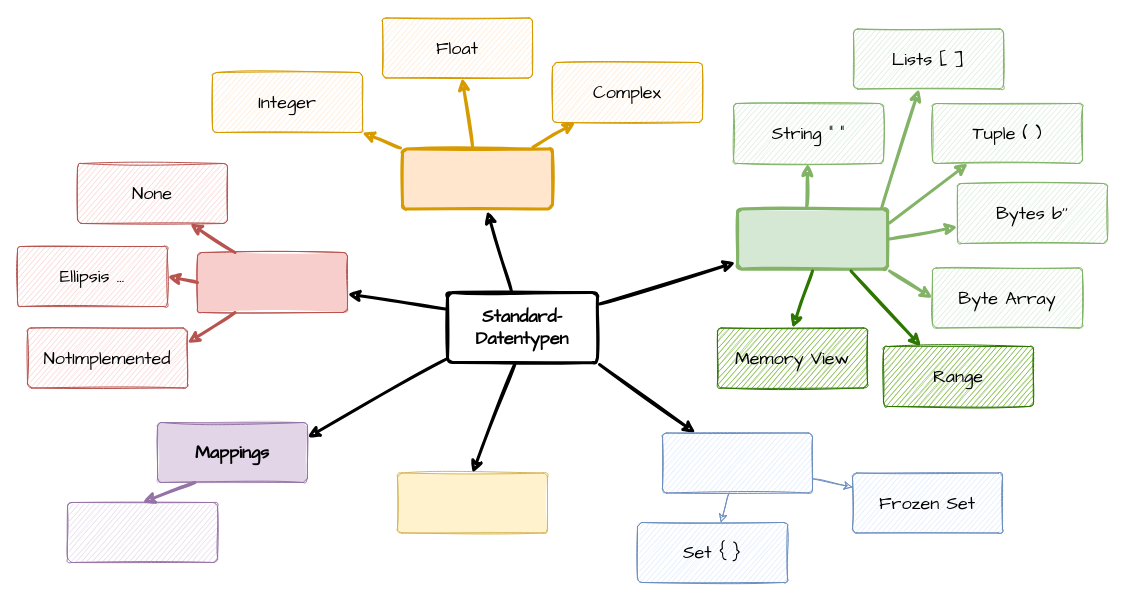
Some shapes in this 1125 by 600 pixel diagram are drawn without their labels. Here are the shapes that lost their labels. From the top down, the centre of each, then its label:
pixel 477 178: Numerisch
pixel 812 238: Sequenziell
pixel 272 282: Spezieller Wert
pixel 737 462: Mengen
pixel 472 502: Boolean
pixel 142 532: Dictionary {k: v}
